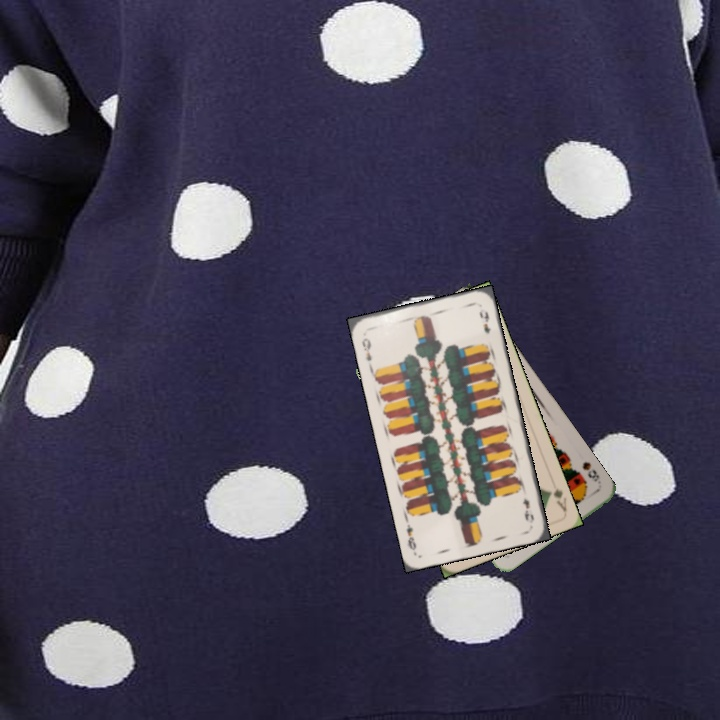E9: (358, 334, 374, 370), (519, 495, 536, 525)
GA: (544, 484, 569, 514)
S8: (578, 457, 604, 487)
